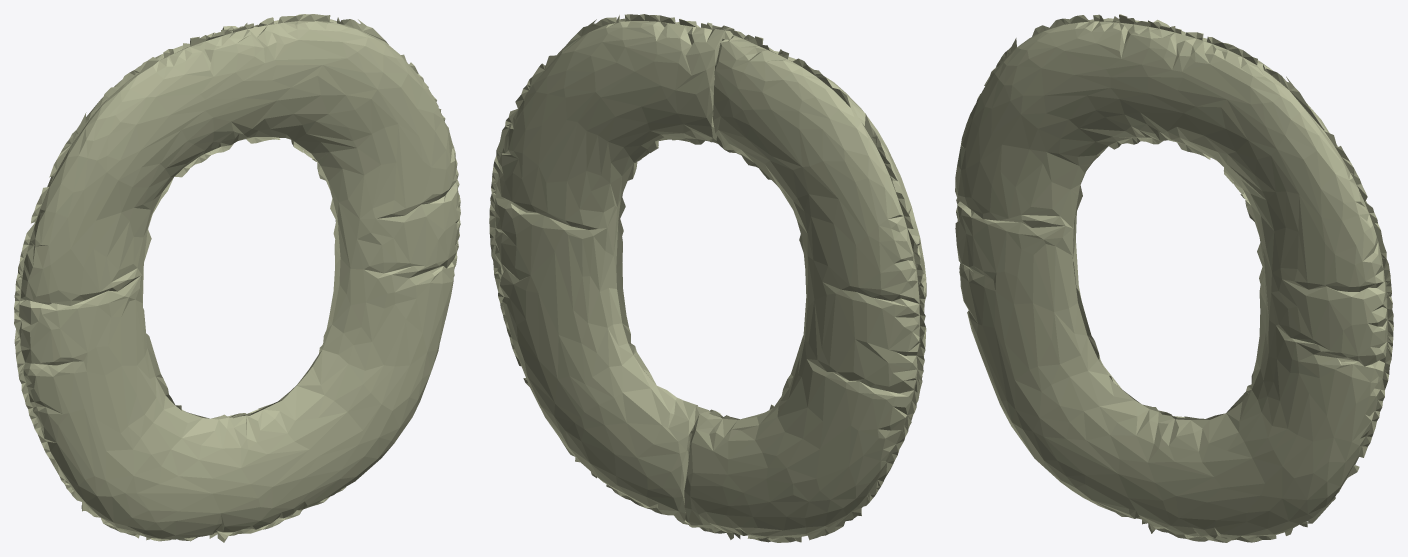
File: tinker.obj
3 views of the same model, side by side, from view 1: azimuth 30°, elevation 25°; view 2: azimuth 150°, elevation 25°; view 3: azimuth 330°, elevation 25° (orthographic).
Parts seen in each view (by area): view 1: obj_0; view 2: obj_0; view 3: obj_0.
Part boxes in pixels (left/top/right/bottom): obj_0: left=14, top=14, right=460, bottom=542; obj_0: left=489, top=14, right=926, bottom=542; obj_0: left=955, top=14, right=1393, bottom=542.
Size of the model in its own units: 13.4 by 14.9 by 1.68.
